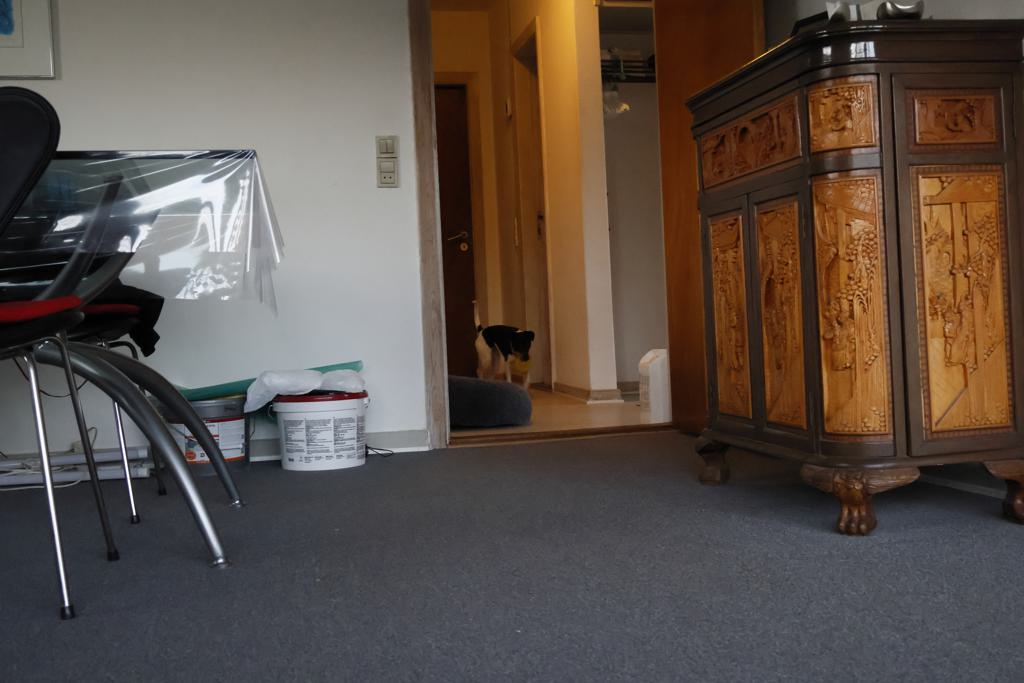Dog: (467, 295, 539, 395)
